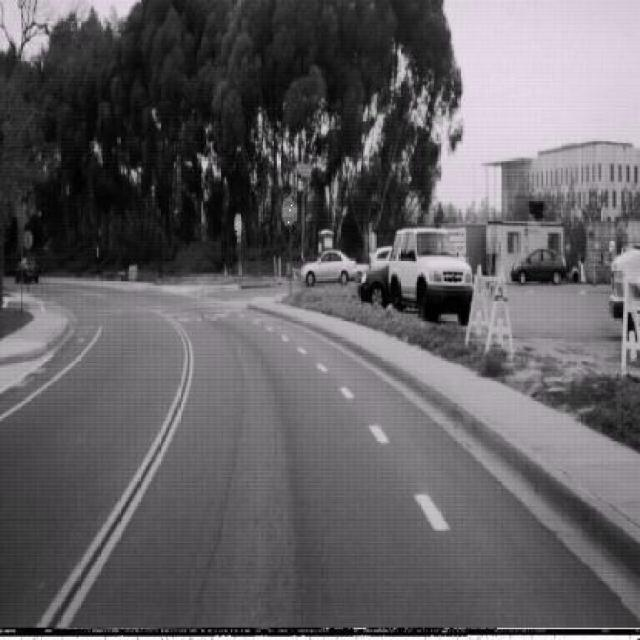stop: (283, 195, 299, 228), (234, 212, 242, 238)
